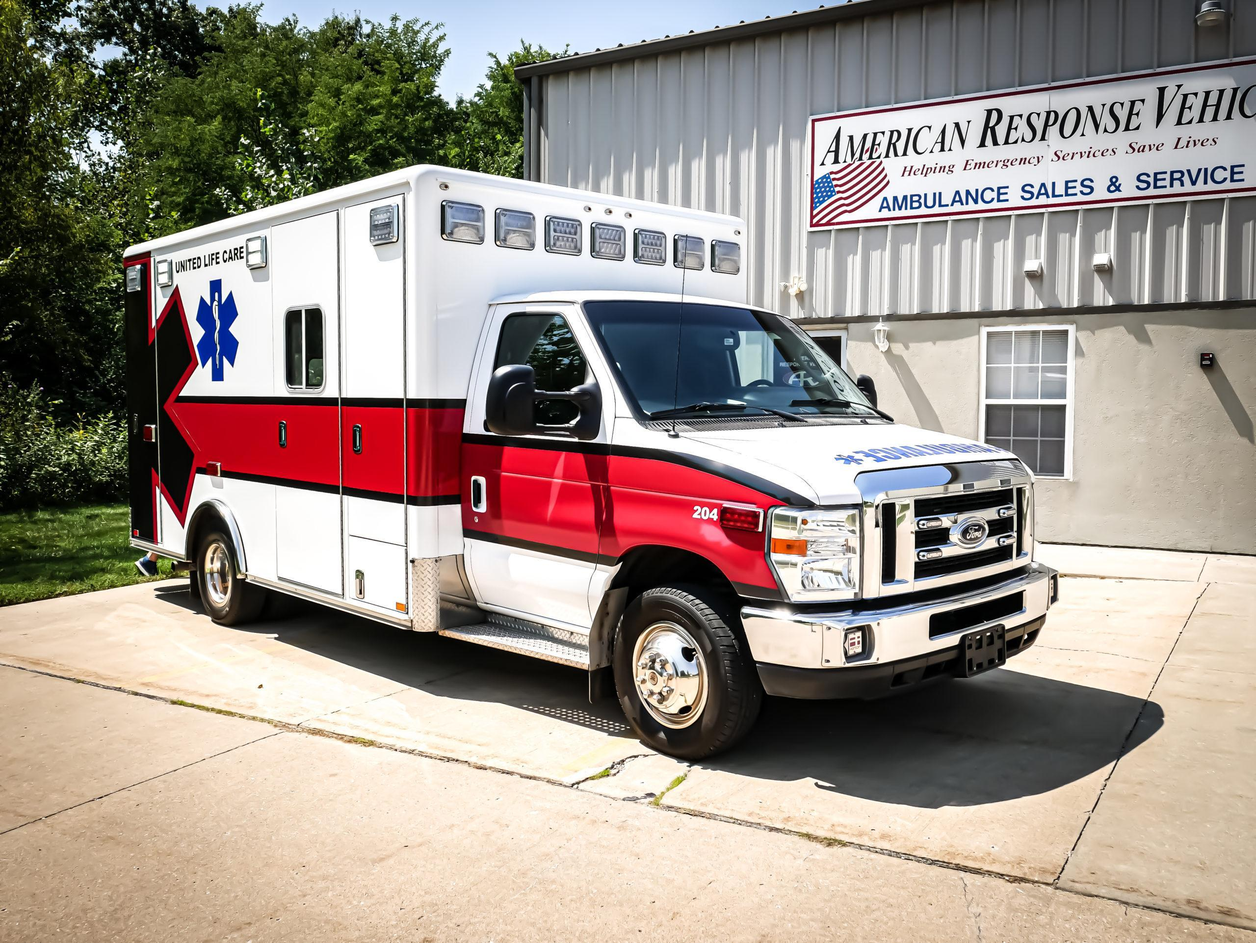Ambulance: (186, 273, 249, 386)
